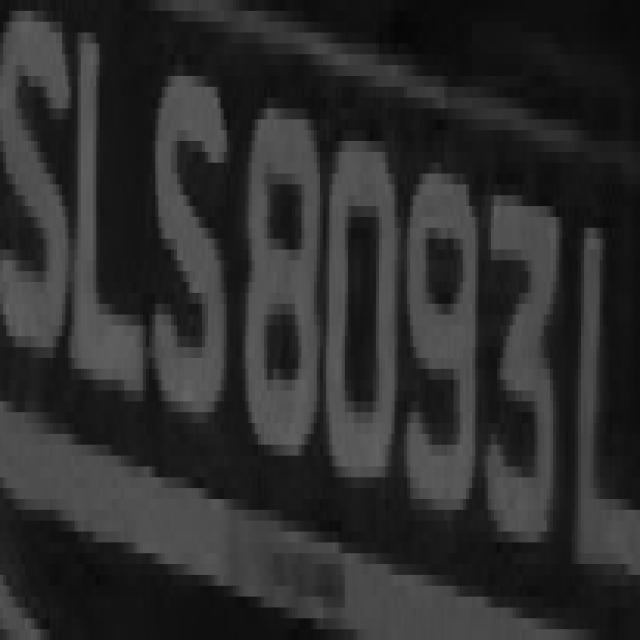0: (326, 98, 401, 553)
3: (475, 152, 556, 575)
8: (233, 87, 323, 488)
9: (404, 130, 478, 564)
L: (65, 11, 152, 445), (568, 141, 634, 586)
S: (149, 22, 227, 423), (3, 0, 72, 391)
